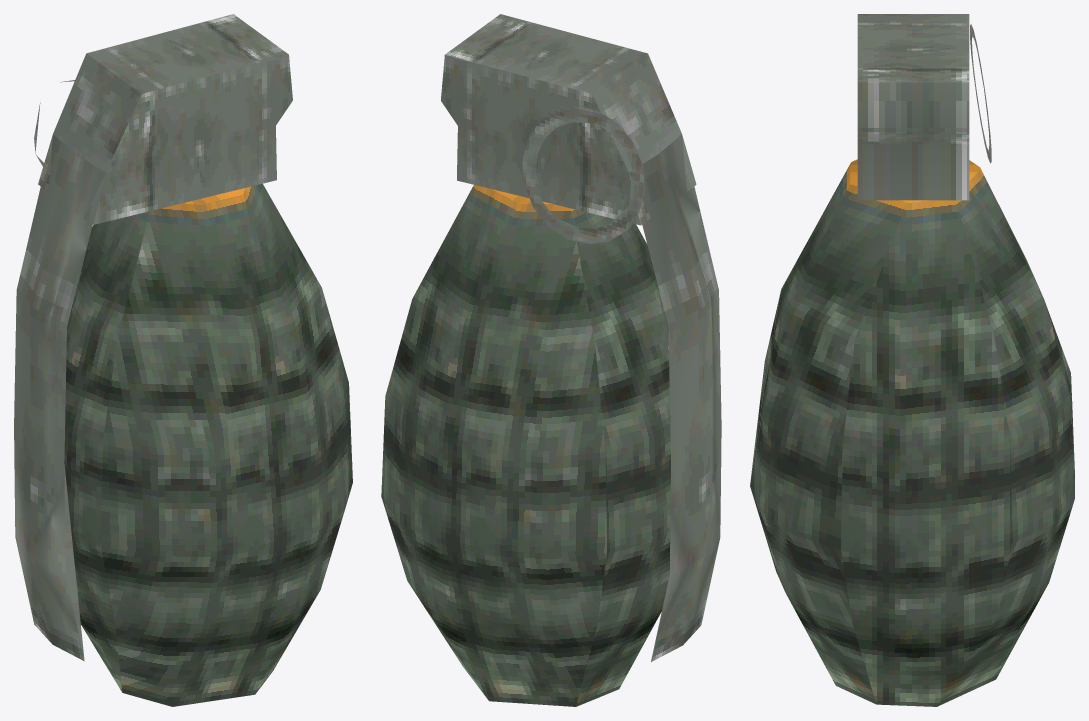
The model's file is ps2_save-icons_moh-frontline-eduardo.glb.
3 views of the same model, side by side, from view 1: azimuth 30°, elevation 25°; view 2: azimuth 150°, elevation 25°; view 3: azimuth 270°, elevation 25° (orthographic).
Visible parts, largest first — view 1: MOH Frontline EDUARDO; view 2: MOH Frontline EDUARDO; view 3: MOH Frontline EDUARDO.
Part boxes in pixels (<box>): MOH Frontline EDUARDO: <box>14,14,352,706</box>; MOH Frontline EDUARDO: <box>381,14,721,706</box>; MOH Frontline EDUARDO: <box>750,14,1074,706</box>.
Bounding box in the file's own units: 2.47 × 5 × 2.3.
Materials: 1 (1 with a texture image).
